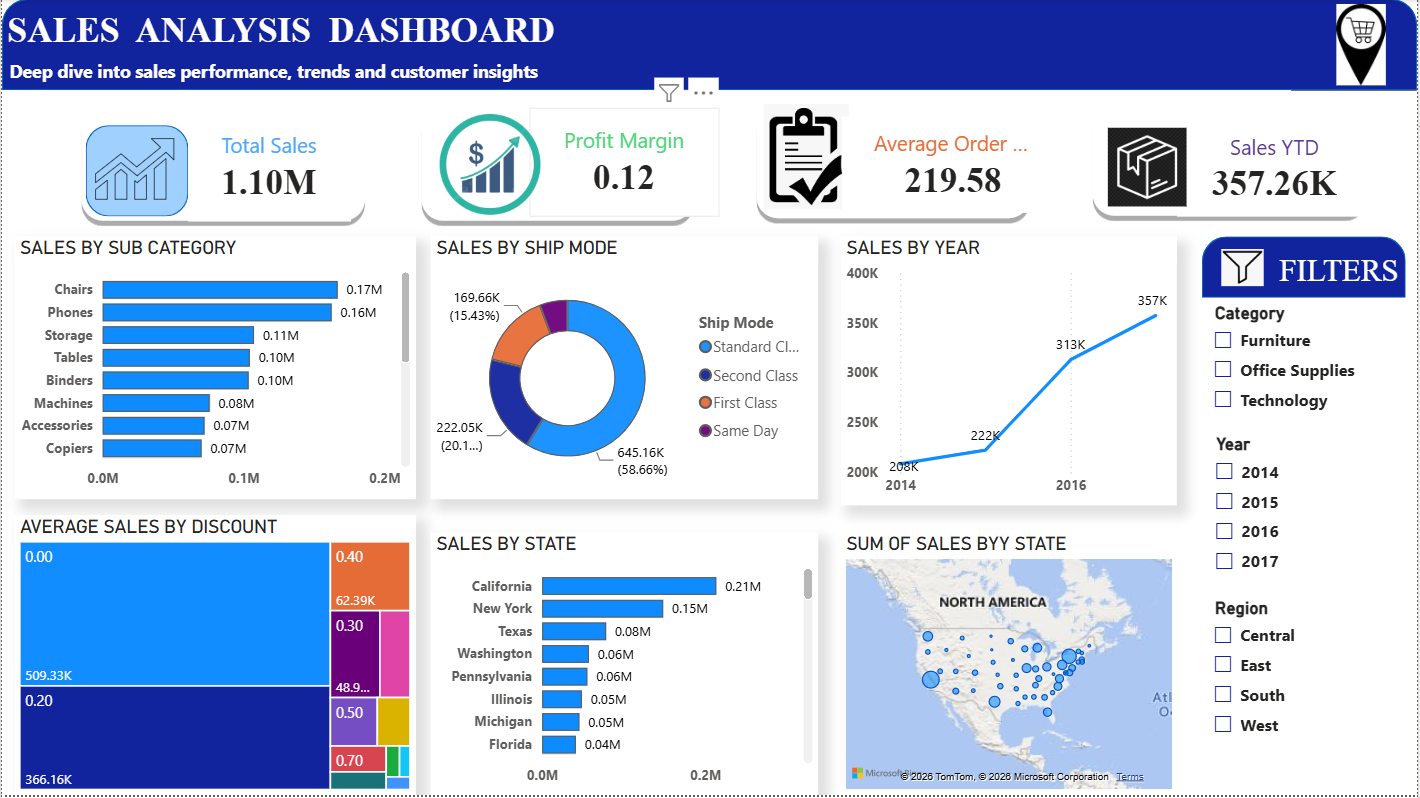

The page's visual inventory and layout, read from the dashboard file:
{"tool":"powerbi","page":{"name":"SALES  ANALYSIS  DASHBOARD","canvas":[1280,720],"ordinal":1},"visuals":[{"type":"shape","box":[66.7,92.7,266.8,113.1],"z":0},{"type":"shape","box":[75.8,114.2,92.7,82.5],"z":1000},{"type":"textbox","box":[1165.7,58.8,114.2,23.7],"z":2000},{"type":"barChart","title":"SALES BY SUB CATEGORY","fields":{"Category":["Sample - Superstore.Sub-Category"],"Y":["Sum(Sample - Superstore.Sales)"]},"box":[11.3,214.8,362.9,237.4],"z":3000},{"type":"treemap","title":"AVERAGE SALES BY DISCOUNT","fields":{"Group":["Sample - Superstore.Discount"],"Values":["Sum(Sample - Superstore.Sales)"]},"box":[11.3,467,362.9,253.3],"z":4000},{"type":"slicer","fields":{"Values":["Sample - Superstore.Category"]},"box":[1084.3,270.2,195.6,118.7],"z":5000},{"type":"slicer","fields":{"Values":["Date Table.Year"]},"box":[1085.4,388.9,194.5,156],"z":6000},{"type":"slicer","fields":{"Values":["Sample - Superstore.Region"]},"box":[1084.3,537.1,194.5,157.2],"z":7000},{"type":"shape","box":[0,0,1279.9,82.5],"z":8000},{"type":"textbox","box":[0,4.5,677.3,66.7],"z":9000},{"type":"image","box":[1178.1,4.5,101.8,73.5],"z":10000},{"type":"image","box":[71.2,115.3,97.2,76.9],"z":11000},{"type":"cardVisual","fields":{"Data":["Sample - Superstore.Total Sales"]},"box":[168.5,102.9,147,98.4],"z":12000},{"type":"shape","box":[374.2,92.7,256.7,113.1],"z":13000},{"type":"cardVisual","fields":{"Data":["Sample - Superstore.Profit Margin"]},"box":[477.1,98.4,171.9,98.4],"z":15000},{"type":"image","box":[374.2,104,134.5,91.6],"z":15500},{"type":"shape","box":[677.3,90.5,257.8,113.1],"z":16000},{"type":"image","box":[649,95,157.2,95],"z":17000},{"type":"cardVisual","fields":{"Data":["Sample - Superstore.Average Order Value"]},"box":[759.8,106.3,201.3,87.1],"z":18000},{"type":"shape","box":[981.4,88.2,257.8,113.1],"z":19000},{"type":"cardVisual","fields":{"Data":["Sample - Superstore.Sales YTD"]},"box":[1062.8,109.7,176.4,87.1],"z":20000},{"type":"image","box":[961.1,116.5,149.2,71.2],"z":21000},{"type":"shape","box":[1085.4,214.8,184.3,55.4],"z":22000},{"type":"image","box":[1101.3,226.1,41.8,33.9],"z":23000},{"type":"barChart","title":"SALES BY STATE","fields":{"Category":["Sample - Superstore.State"],"Y":["Sample - Superstore.Total Sales"]},"box":[387.8,482.8,350.5,237.4],"z":24000},{"type":"donutChart","title":"SALES BY SHIP MODE","fields":{"Category":["Sample - Superstore.Ship Mode"],"Y":["Sum(Sample - Superstore.Sales)"]},"box":[387.8,214.8,350.5,237.4],"z":25000},{"type":"lineChart","title":"SALES BY YEAR","fields":{"Y":["Sum(Sample - Superstore.Sales)"],"Category":["Date Table.Year"]},"box":[758.7,214.8,304.1,243.1],"z":26000},{"type":"map","title":"SUM OF SALES BYY STATE","fields":{"Size":["Sum(Sample - Superstore.Sales)"],"Category":["Sample - Superstore.State"]},"box":[759,483,304,237],"z":27000}]}

Visuals, with their boxes in screenshot pixels (x1, y1, x2, y2), scaled from the page's 1280x720 canvas onto the 1420x798 screenshot:
shape: detection(74, 103, 370, 228)
shape: detection(84, 127, 187, 218)
textbox: detection(1293, 65, 1419, 91)
"SALES BY SUB CATEGORY" barChart: detection(13, 238, 415, 501)
"AVERAGE SALES BY DISCOUNT" treemap: detection(13, 518, 415, 797)
slicer - Sample - Superstore.Category: detection(1203, 299, 1419, 431)
slicer - Date Table.Year: detection(1204, 431, 1419, 604)
slicer - Sample - Superstore.Region: detection(1203, 595, 1419, 770)
shape: detection(0, 0, 1419, 91)
textbox: detection(0, 5, 751, 79)
image: detection(1307, 5, 1419, 86)
image: detection(79, 128, 187, 213)
cardVisual - Sample - Superstore.Total Sales: detection(187, 114, 350, 223)
shape: detection(415, 103, 700, 228)
cardVisual - Sample - Superstore.Profit Margin: detection(529, 109, 720, 218)
image: detection(415, 115, 564, 217)
shape: detection(751, 100, 1037, 226)
image: detection(720, 105, 894, 211)
cardVisual - Sample - Superstore.Average Order Value: detection(843, 118, 1066, 214)
shape: detection(1089, 98, 1375, 223)
cardVisual - Sample - Superstore.Sales YTD: detection(1179, 122, 1375, 218)
image: detection(1066, 129, 1232, 208)
shape: detection(1204, 238, 1409, 299)
image: detection(1222, 251, 1268, 288)
"SALES BY STATE" barChart: detection(430, 535, 819, 797)
"SALES BY SHIP MODE" donutChart: detection(430, 238, 819, 501)
"SALES BY YEAR" lineChart: detection(842, 238, 1179, 508)
"SUM OF SALES BYY STATE" map: detection(842, 535, 1179, 797)
